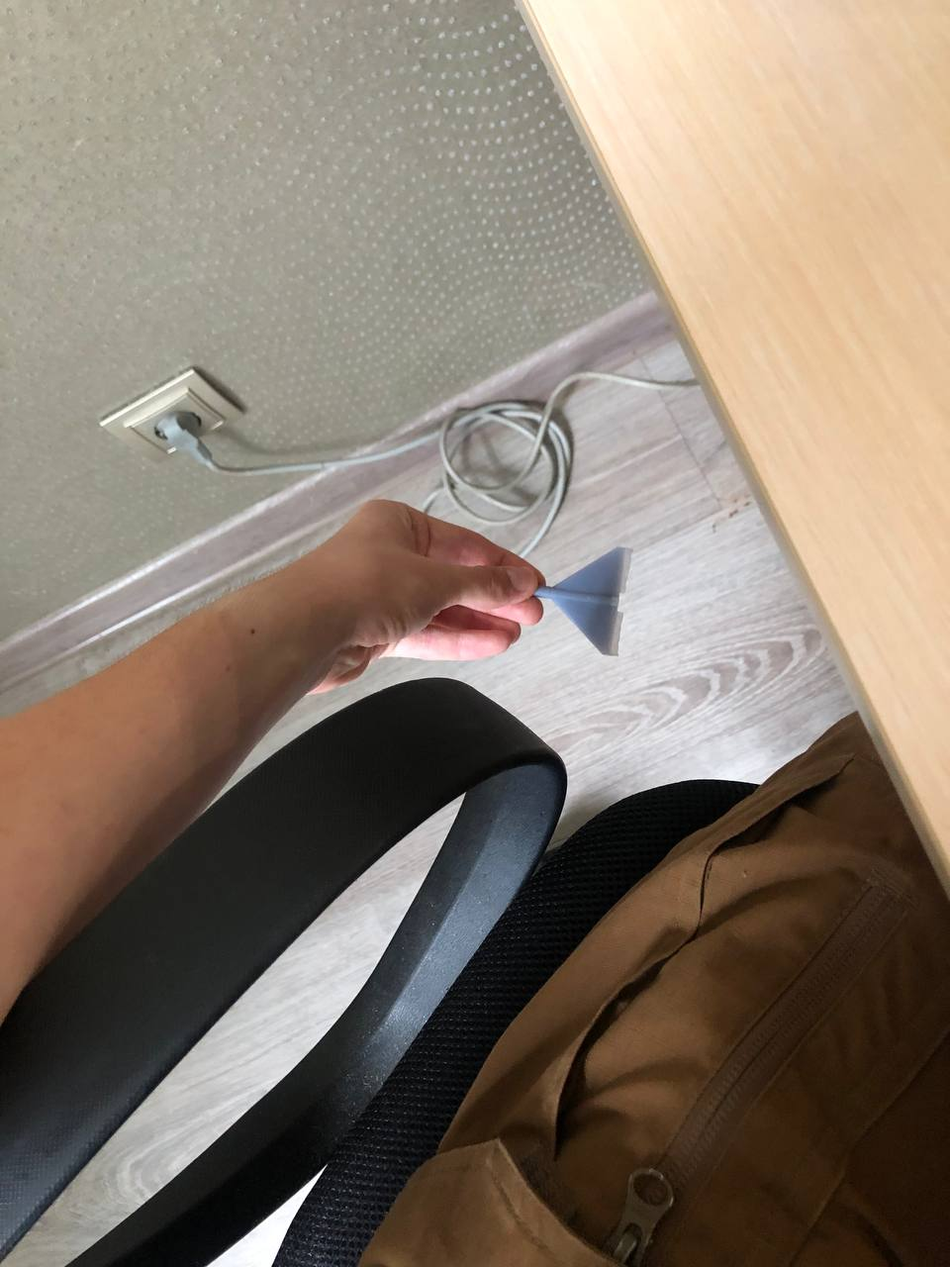shahed: (531, 545, 636, 658)
